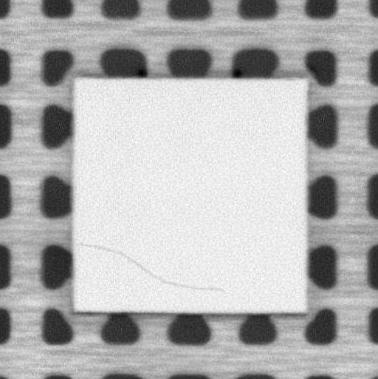DIE_CRACK: (79, 244, 225, 294)
